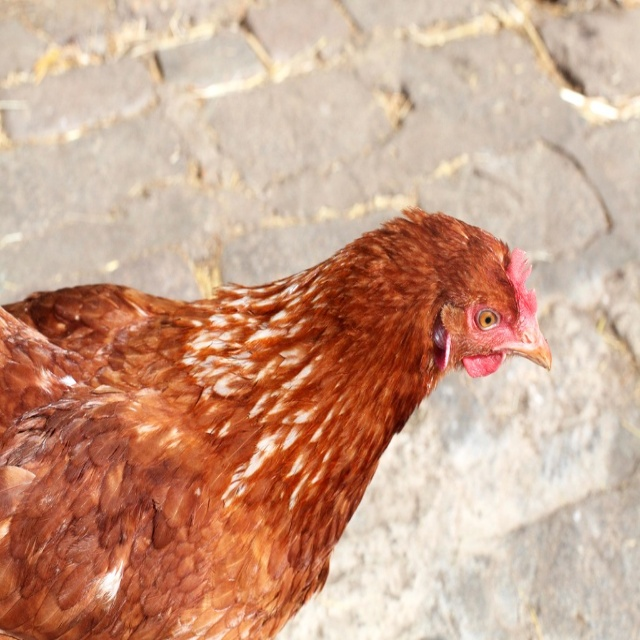Chicken: (0, 205, 552, 640)
